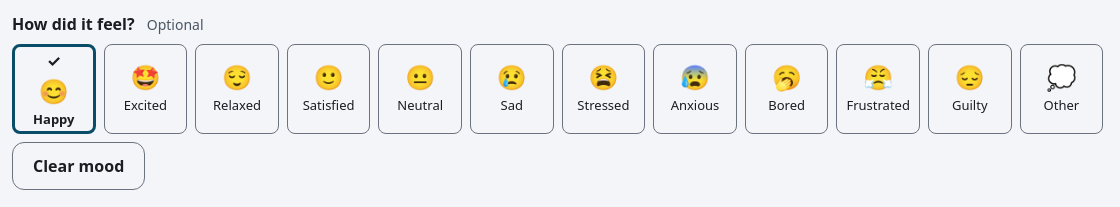
MoodRow › clears a mood back to none, by tapping it again or with Clear mood
The image size is (1120, 207).
Later steps or results of the test are not shown.
Click the button "✓ 😊 Happy" at (54, 89), box 12,44 -> 96,134
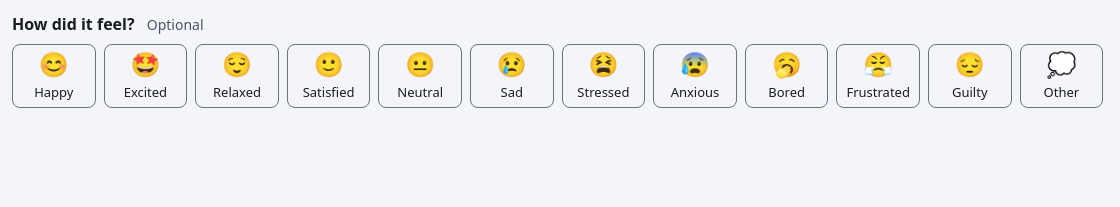
Expected: the button "Clear mood" is gone
